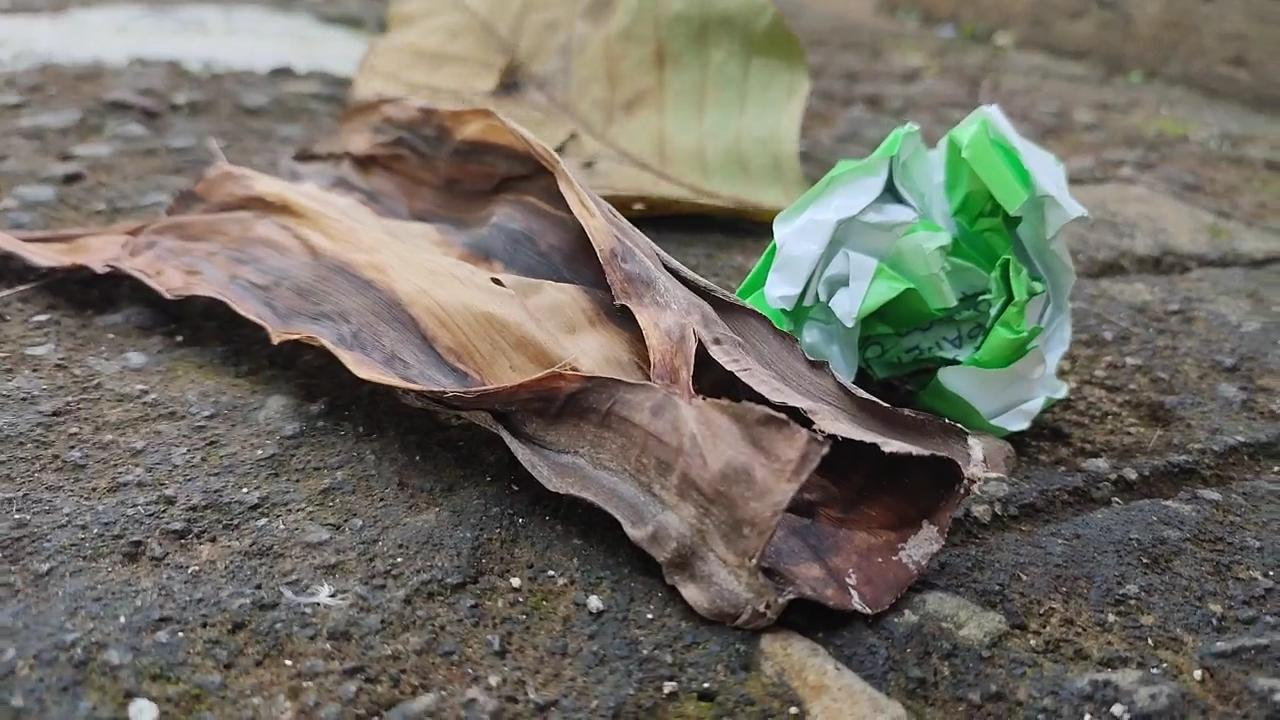Paper: (752, 86, 1103, 451)
